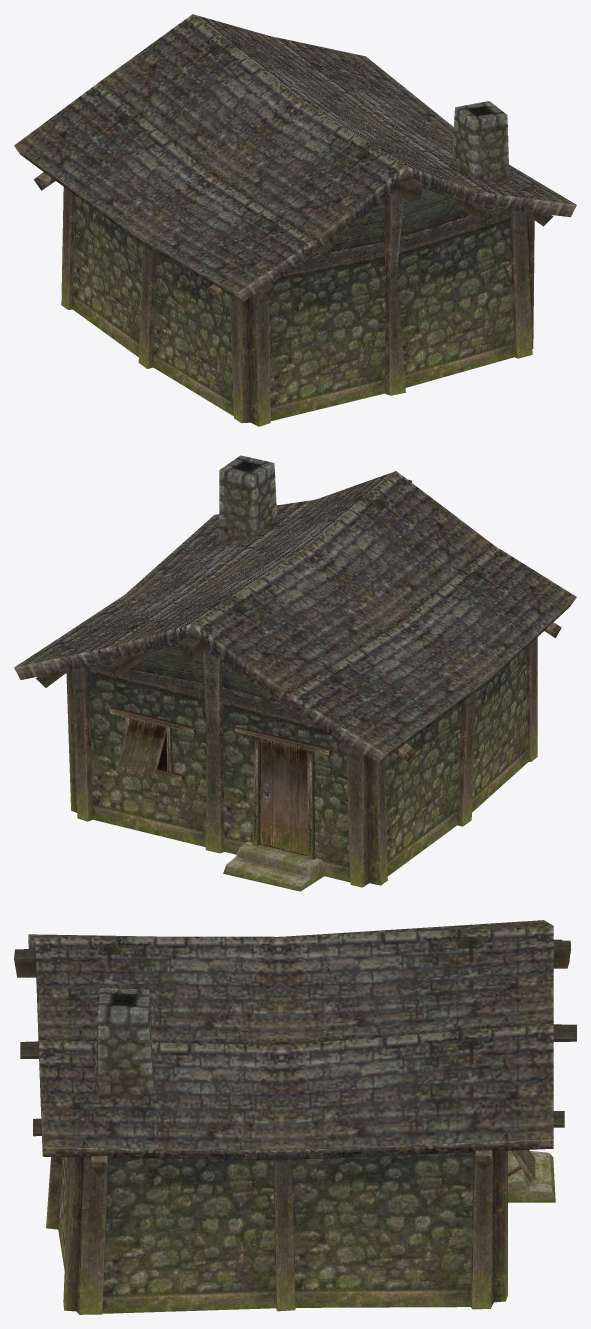
File: OZ_08_nk_shed01A.glb
3 views of the same model, one above another, from view 1: azimuth 30°, elevation 25°; view 2: azimuth 150°, elevation 25°; view 3: azimuth 270°, elevation 25° (orthographic). The views are drawn at different scales.
Parts seen in each view (by area): view 1: OM_08_nk_shed01A; view 2: OM_08_nk_shed01A; view 3: OM_08_nk_shed01A.
Boxes of the visible parts, bbox=[...] form: OM_08_nk_shed01A: bbox=[14, 14, 576, 426]; OM_08_nk_shed01A: bbox=[14, 455, 576, 891]; OM_08_nk_shed01A: bbox=[14, 920, 576, 1314].
Bounding box in the file's own units: 7.55 × 4.56 × 7.89.
1 material, 1 textured.
